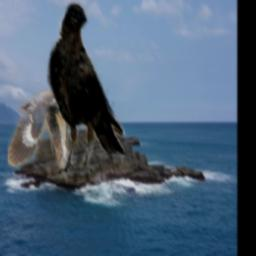Crow: (48, 1, 126, 174)
Woodpecker: (8, 91, 73, 176)
